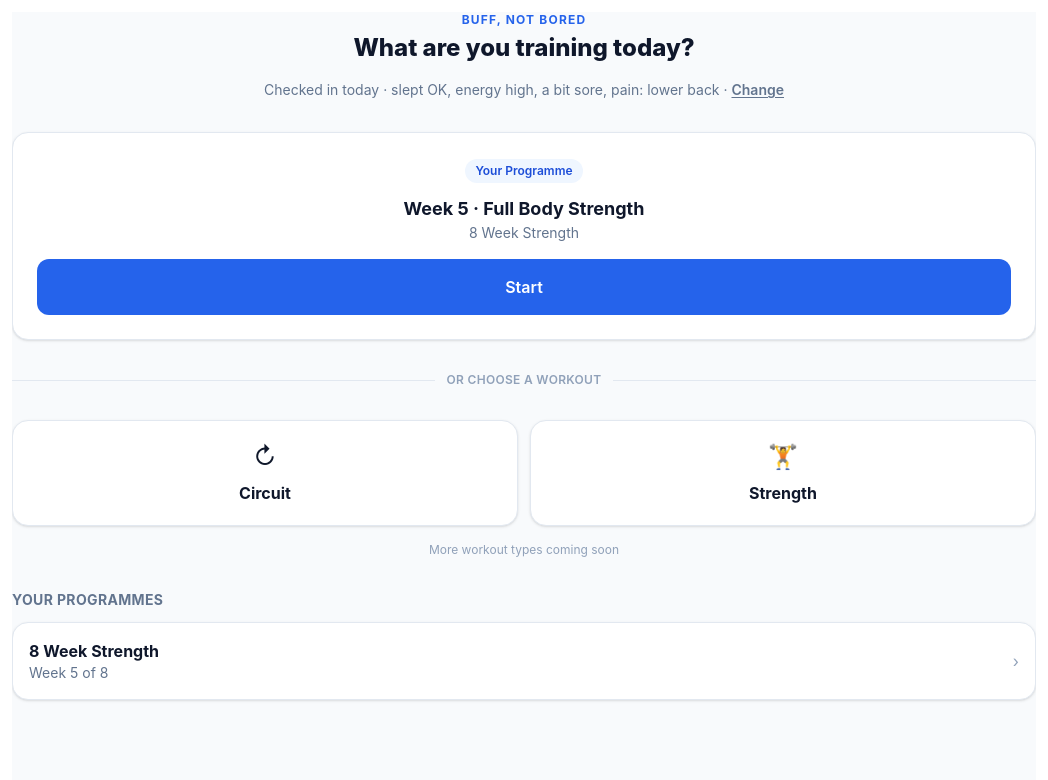
Test: Home after checking in (S-016) › shows how you checked in, and lets you change it
The width and height of the screenshot is (1048, 780).
Expected: the text "Checked in today · slept OK, energy high, a bit sore, pain: lower back" is shown, [264,81,720,98]
Click the button "Change".
click(758, 90)  # box [732,80,784,100]
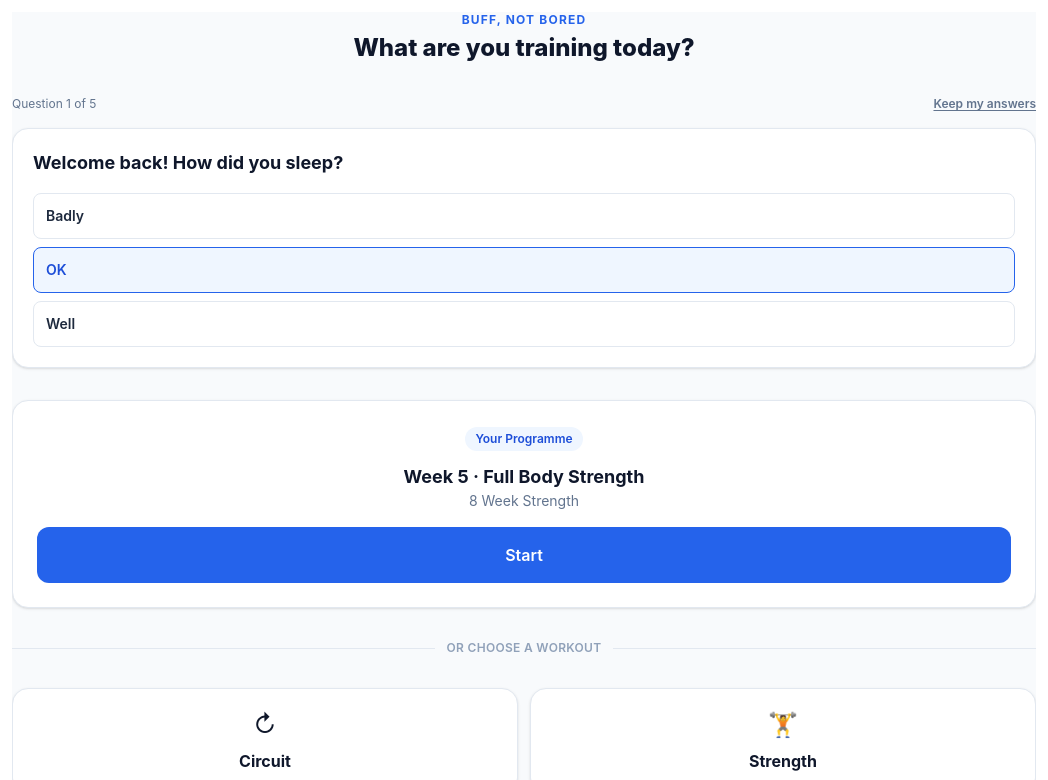
Expected: the text "Welcome back! How did you sleep?" is shown, [33,152,343,173]
